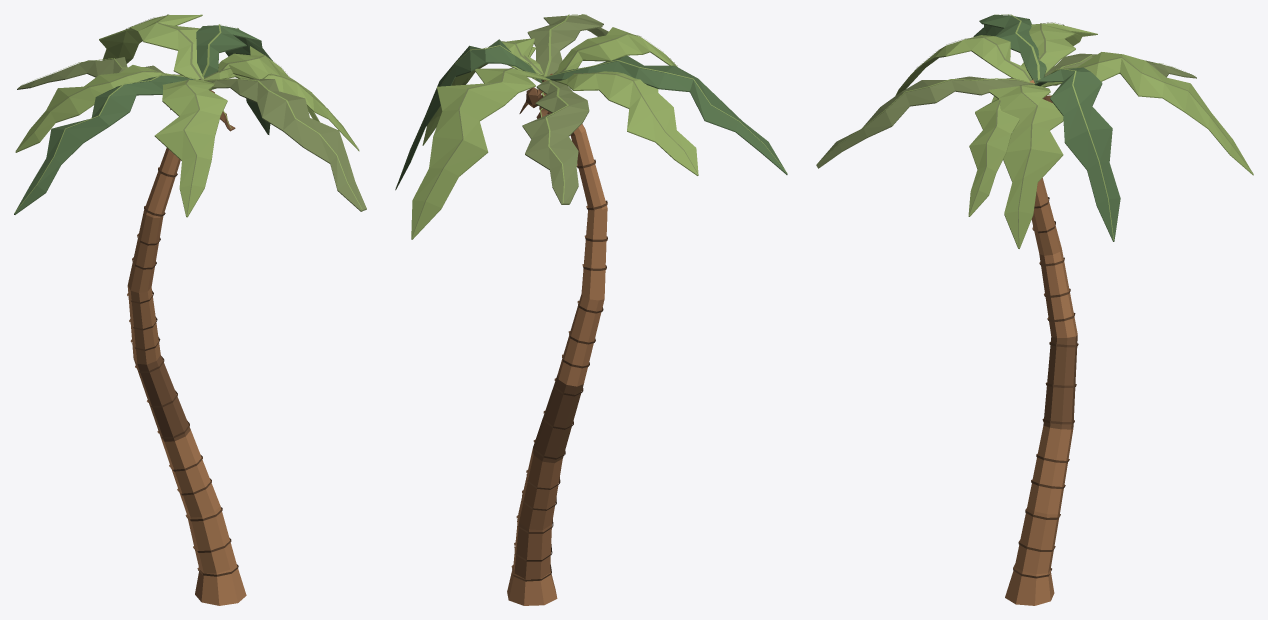
File: prop_palm_crooked.glb
The picture shows the model from 3 angles, left to right: view 1: azimuth 30°, elevation 25°; view 2: azimuth 150°, elevation 25°; view 3: azimuth 270°, elevation 25°; orthographic projection. The views are drawn at different scales.
Parts seen in each view (by area): view 1: prop_palm_crooked__Wild palm frond 06, prop_palm_crooked__Wild palm frond 07, prop_palm_crooked__Wild palm frond 05, prop_palm_crooked__Wild palm frond 02, prop_palm_crooked__Wild palm frond 04, prop_palm_crooked__Bent trunk segment 02, prop_palm_crooked__Bent trunk segment 03, prop_palm_crooked__Wild palm frond 01, prop_palm_crooked__Bent trunk segment 01, prop_palm_crooked__Bent trunk segment 04, prop_palm_crooked__Bent trunk segment 05, prop_palm_crooked__Bent trunk segment 00 (+4 smaller); view 2: prop_palm_crooked__Wild palm frond 02, prop_palm_crooked__Wild palm frond 04, prop_palm_crooked__Wild palm frond 03, prop_palm_crooked__Wild palm frond 05, prop_palm_crooked__Bent trunk segment 03, prop_palm_crooked__Bent trunk segment 02, prop_palm_crooked__Wild palm frond 01, prop_palm_crooked__Bent trunk segment 04, prop_palm_crooked__Wild palm frond 06, prop_palm_crooked__Wild palm frond 07, prop_palm_crooked__Bent trunk segment 05, prop_palm_crooked__Bent trunk segment 01 (+3 smaller); view 3: prop_palm_crooked__Wild palm frond 00, prop_palm_crooked__Wild palm frond 01, prop_palm_crooked__Wild palm frond 02, prop_palm_crooked__Wild palm frond 07, prop_palm_crooked__Wild palm frond 08, prop_palm_crooked__Bent trunk segment 02, prop_palm_crooked__Bent trunk segment 03, prop_palm_crooked__Wild palm frond 06, prop_palm_crooked__Bent trunk segment 04, prop_palm_crooked__Bent trunk segment 01, prop_palm_crooked__Wild palm frond 05, prop_palm_crooked__Wild palm frond 04 (+3 smaller).
Boxes of the visible parts, x1,y1,x2,y2 form: prop_palm_crooked__Wild palm frond 06: (154, 80, 227, 217); prop_palm_crooked__Wild palm frond 07: (206, 78, 366, 211); prop_palm_crooked__Wild palm frond 05: (14, 75, 195, 214); prop_palm_crooked__Wild palm frond 02: (99, 14, 203, 79); prop_palm_crooked__Wild palm frond 04: (15, 65, 168, 152); prop_palm_crooked__Bent trunk segment 02: (161, 430, 220, 517); prop_palm_crooked__Bent trunk segment 03: (133, 355, 190, 441); prop_palm_crooked__Wild palm frond 01: (196, 25, 272, 134); prop_palm_crooked__Bent trunk segment 01: (186, 506, 236, 573); prop_palm_crooked__Bent trunk segment 04: (127, 286, 160, 364); prop_palm_crooked__Bent trunk segment 05: (127, 211, 163, 292); prop_palm_crooked__Bent trunk segment 00: (195, 564, 246, 605); prop_palm_crooked__Wild palm frond 02: (411, 68, 552, 239); prop_palm_crooked__Wild palm frond 04: (554, 71, 698, 175); prop_palm_crooked__Wild palm frond 03: (522, 80, 589, 204); prop_palm_crooked__Wild palm frond 05: (541, 55, 787, 174); prop_palm_crooked__Bent trunk segment 03: (533, 374, 583, 463); prop_palm_crooked__Bent trunk segment 02: (518, 448, 562, 529); prop_palm_crooked__Wild palm frond 01: (395, 39, 542, 190); prop_palm_crooked__Bent trunk segment 04: (557, 294, 604, 386); prop_palm_crooked__Wild palm frond 06: (555, 27, 677, 73); prop_palm_crooked__Wild palm frond 07: (527, 15, 608, 76); prop_palm_crooked__Bent trunk segment 05: (581, 208, 607, 300); prop_palm_crooked__Bent trunk segment 01: (513, 515, 551, 579); prop_palm_crooked__Wild palm frond 00: (989, 84, 1063, 248); prop_palm_crooked__Wild palm frond 01: (1034, 67, 1120, 241); prop_palm_crooked__Wild palm frond 02: (1040, 52, 1253, 175); prop_palm_crooked__Wild palm frond 07: (816, 76, 1031, 168); prop_palm_crooked__Wild palm frond 08: (968, 96, 1019, 216); prop_palm_crooked__Bent trunk segment 02: (1027, 425, 1073, 514); prop_palm_crooked__Bent trunk segment 03: (1043, 335, 1077, 429); prop_palm_crooked__Wild palm frond 06: (895, 35, 1029, 95); prop_palm_crooked__Bent trunk segment 04: (1039, 248, 1077, 337); prop_palm_crooked__Bent trunk segment 01: (1015, 508, 1059, 573); prop_palm_crooked__Wild palm frond 05: (973, 15, 1046, 83); prop_palm_crooked__Wild palm frond 04: (1021, 23, 1097, 79).
Bounding box in the file's own units: 4.4 × 6.77 × 5.01.
